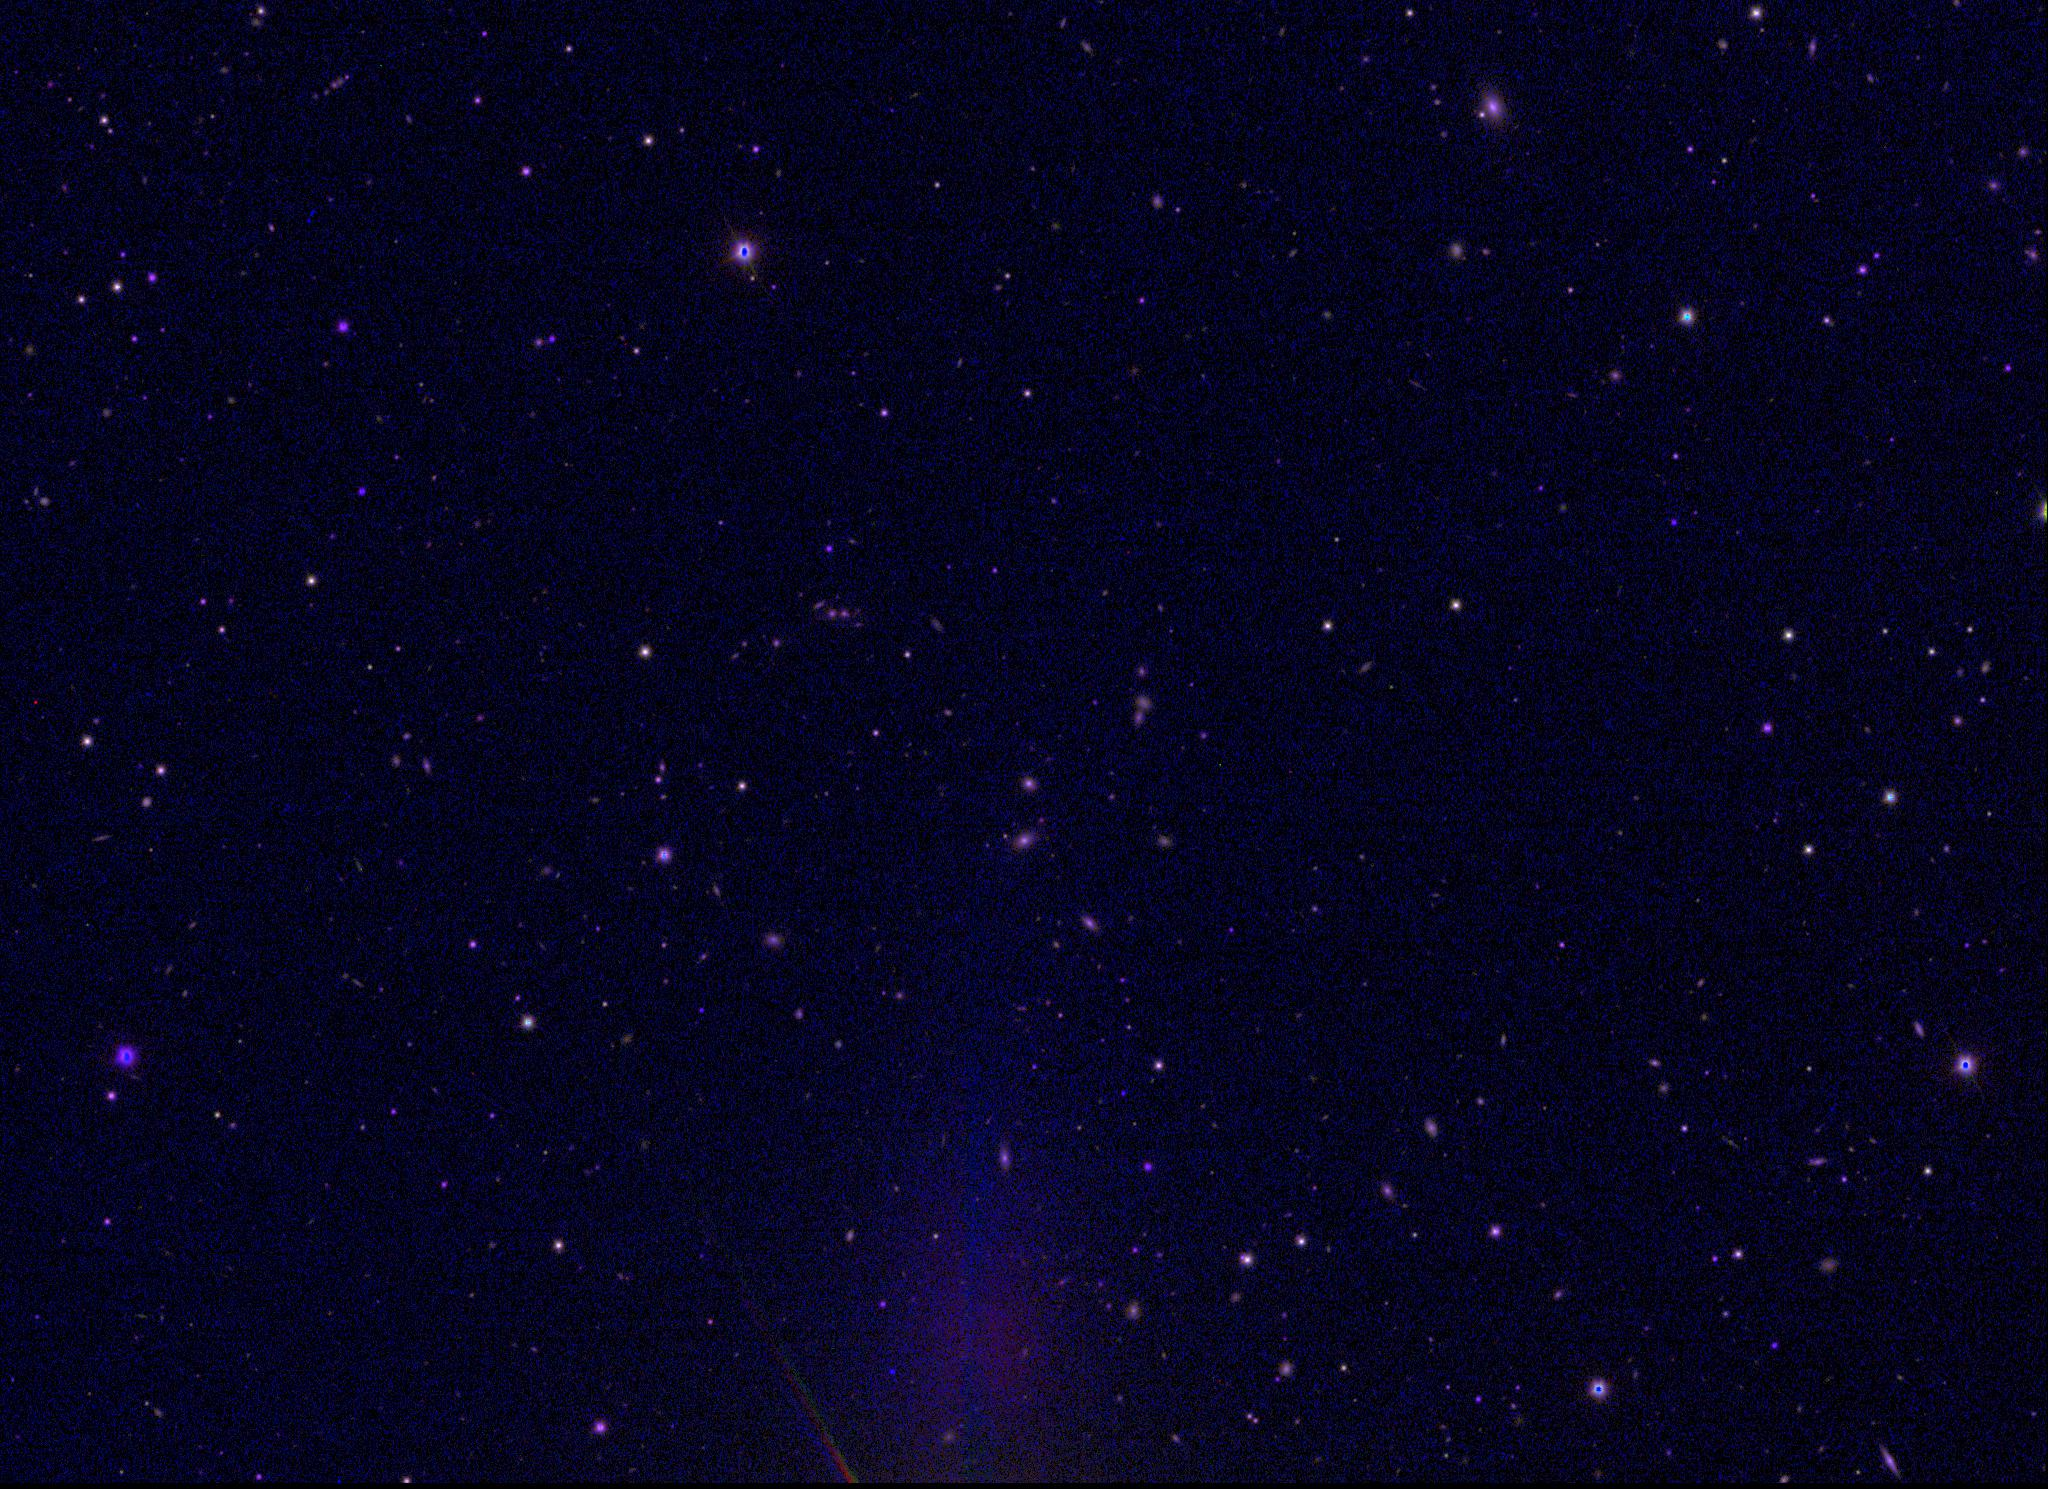L: (886, 1365, 900, 1379)
